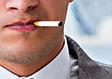smoke: (33, 19, 62, 27)
